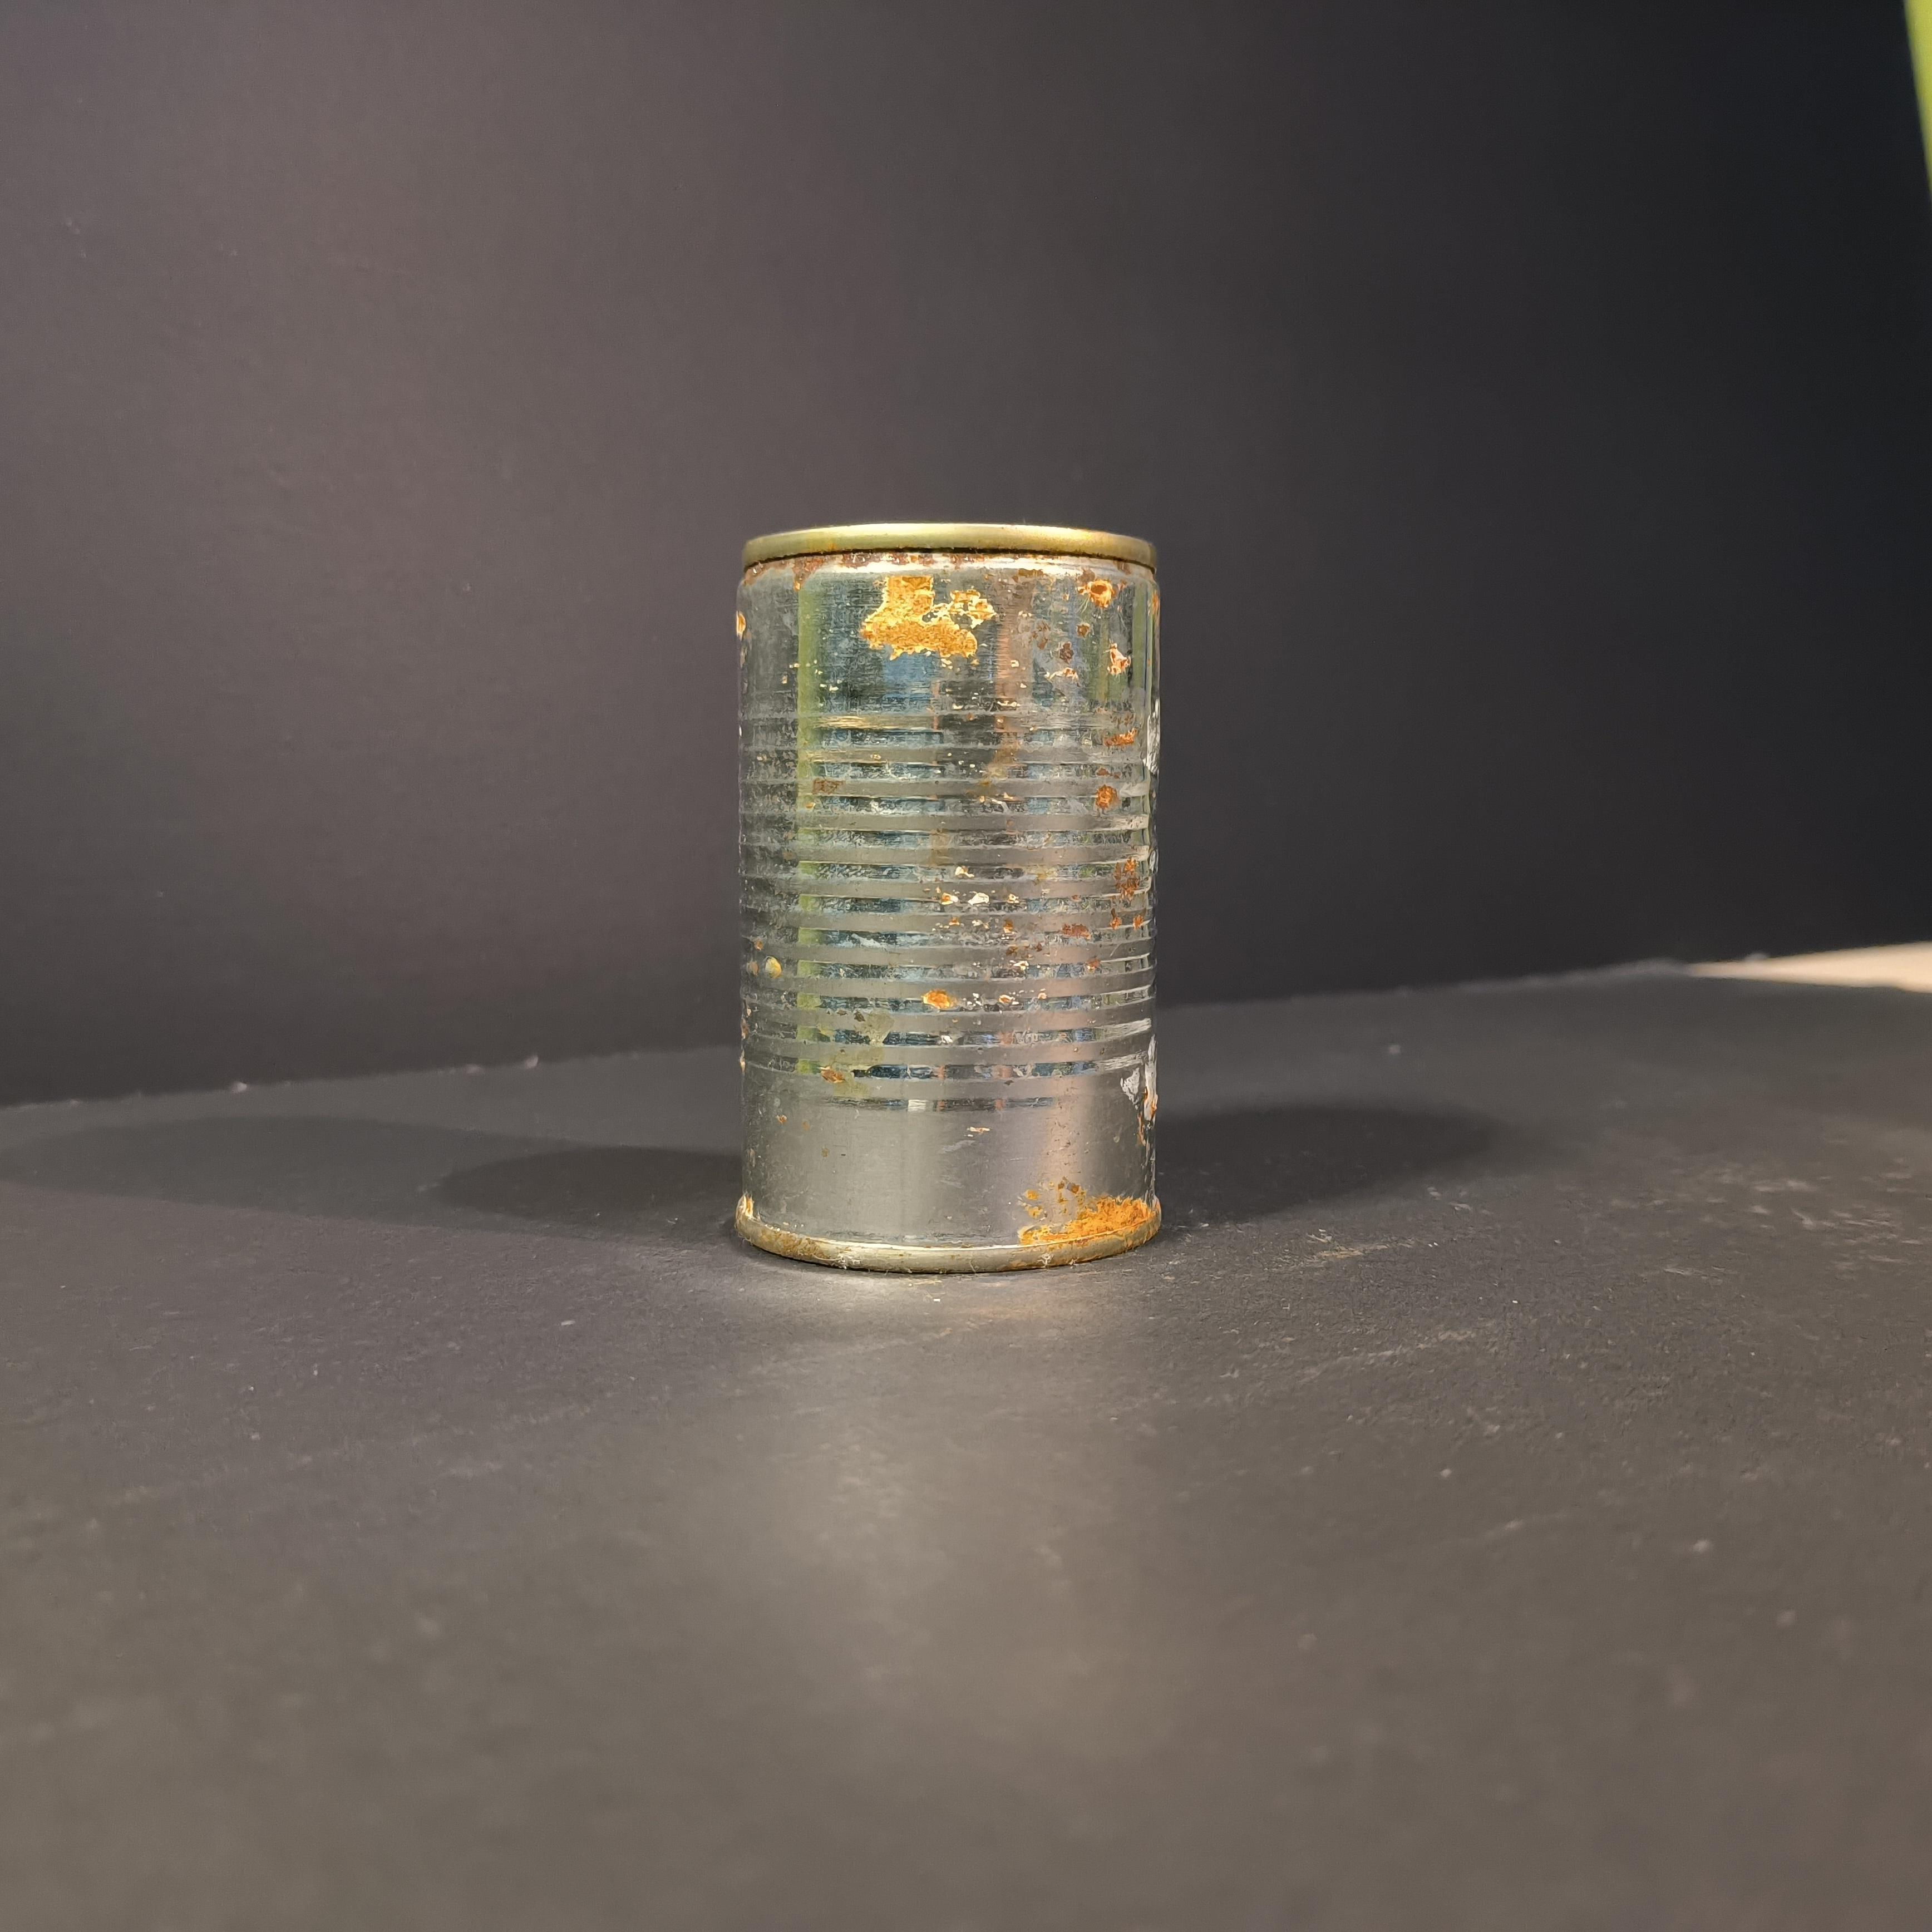Rusted: (709, 497, 1185, 1288)
